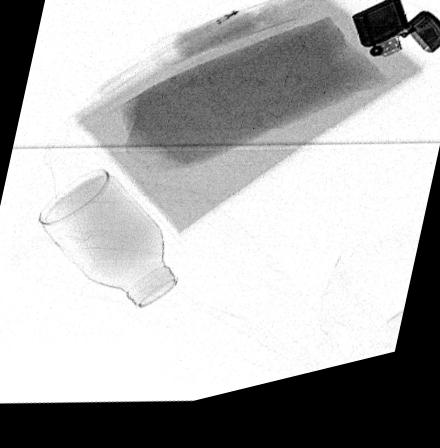Lighter: (350, 15, 440, 76)
